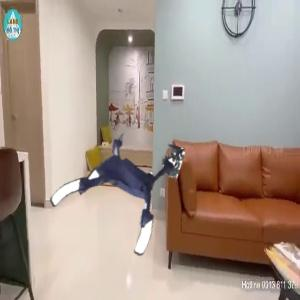drone: (56, 130, 174, 248)
